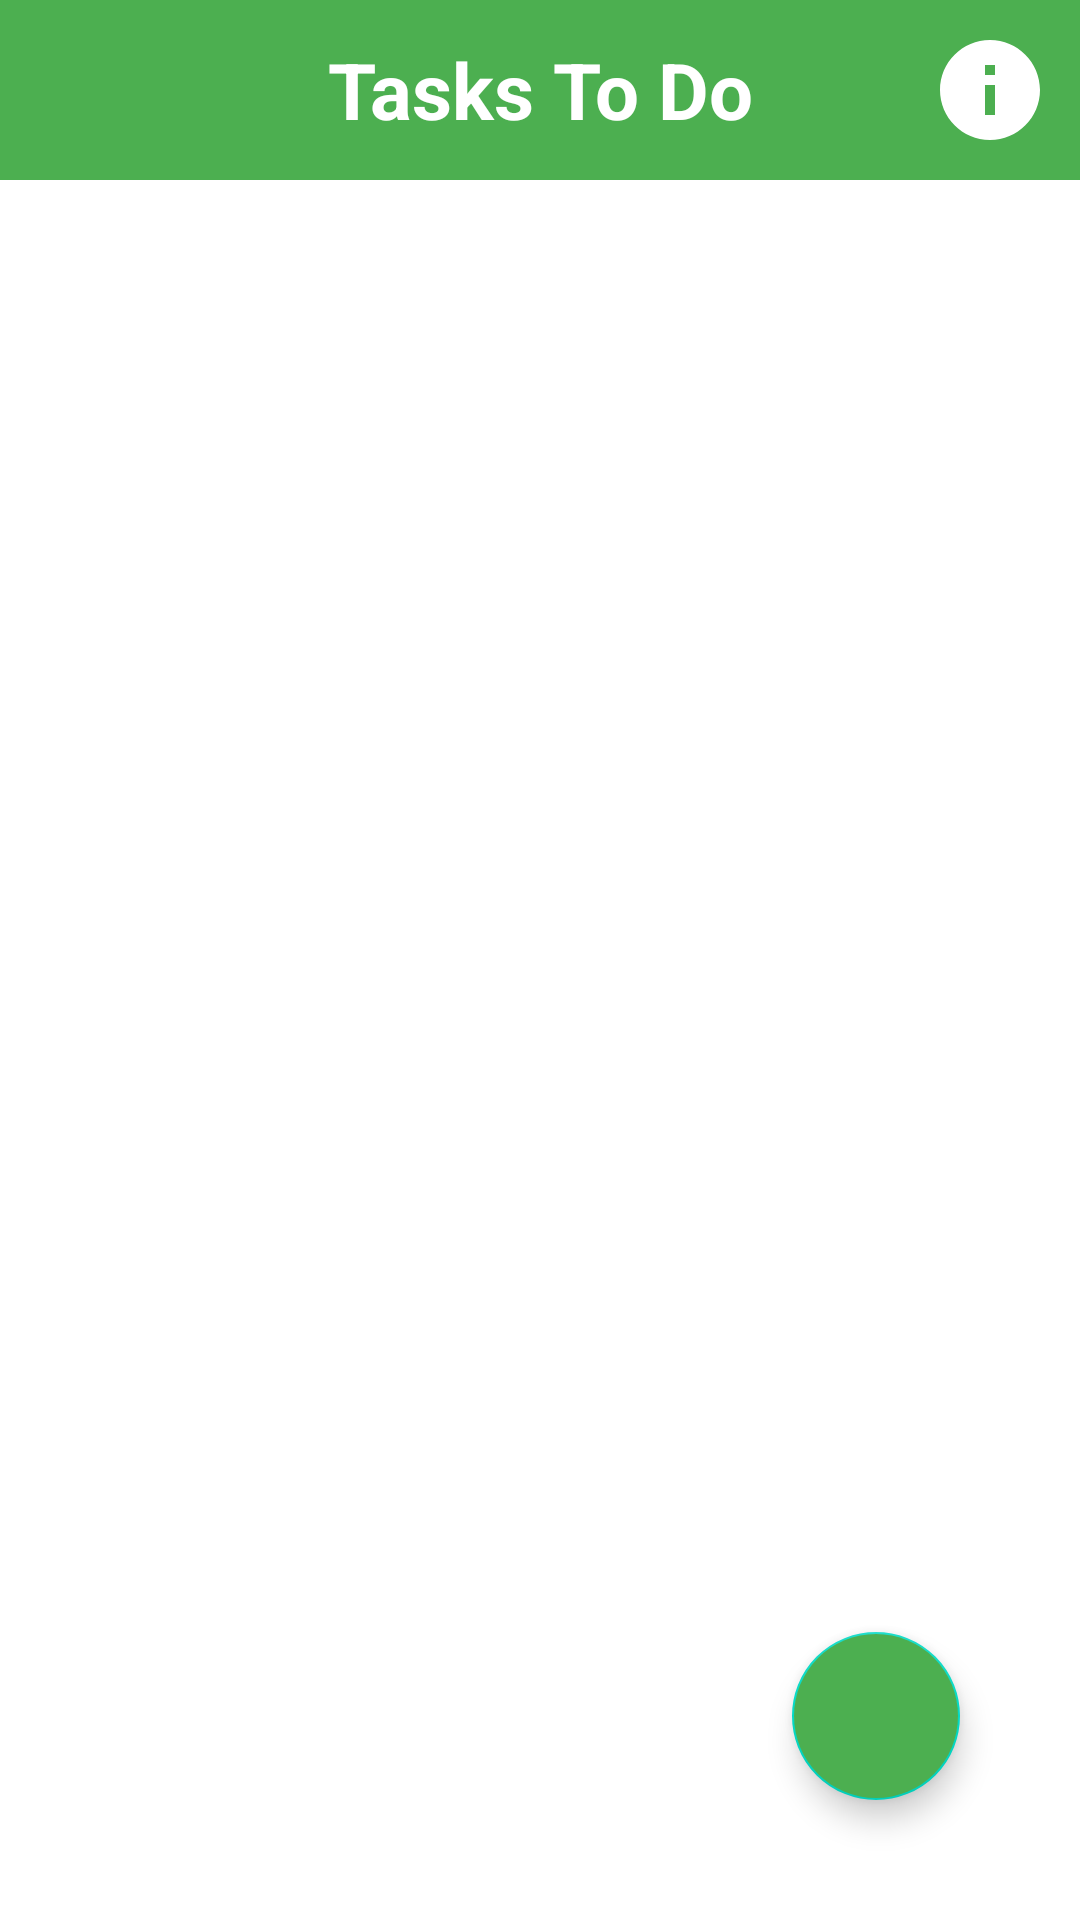

Screen size 1080x1920. Icon name, then its box in pixels as (x1, y1, x2, y2):
info: (940, 40, 1040, 140)
